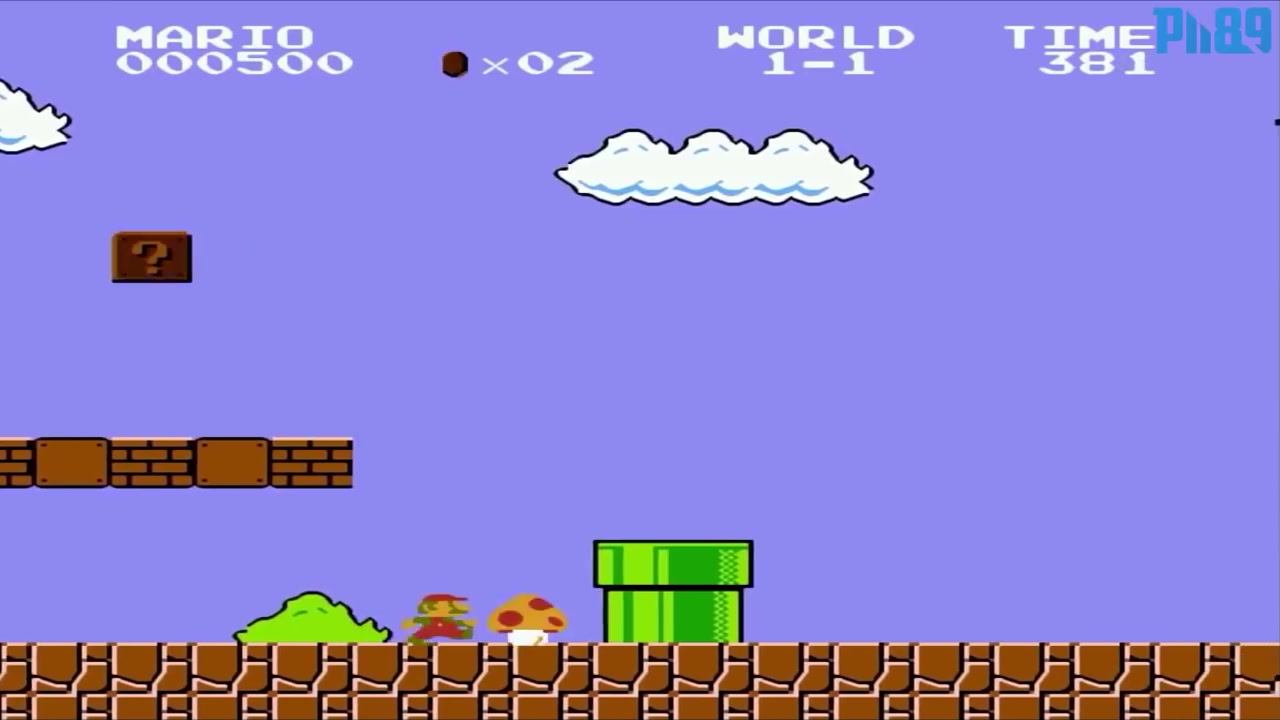mario: (393, 584, 479, 643)
